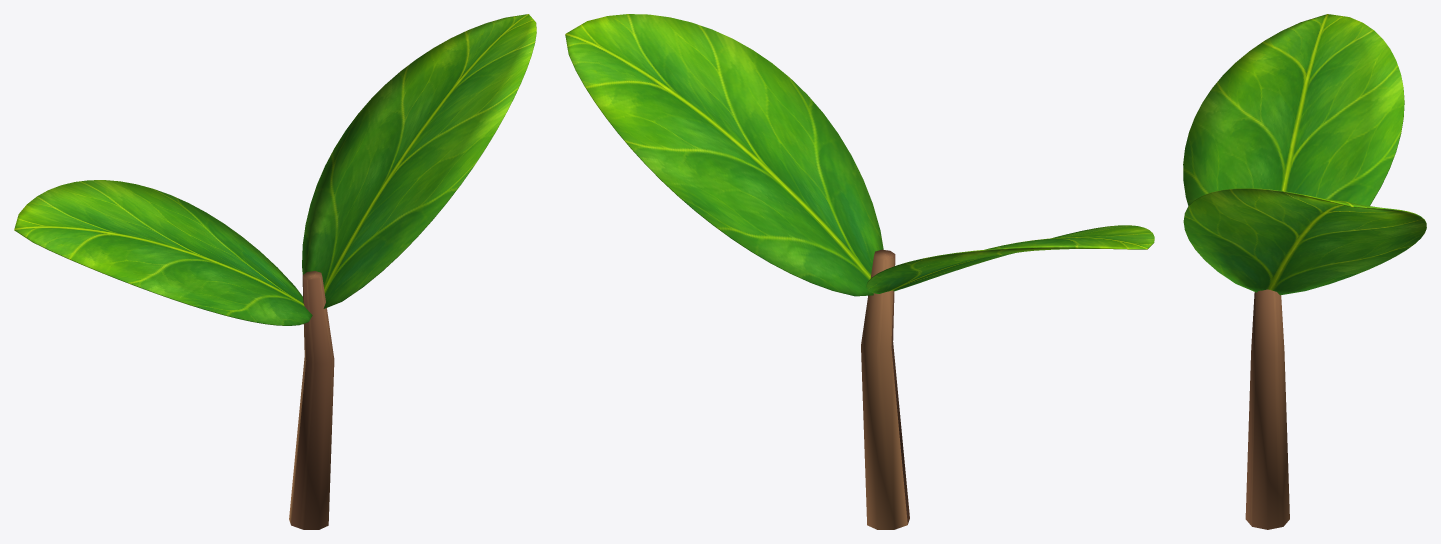
Rendered from NP_Blueberry_Sprout.fbx.
The picture shows the model from 3 angles, left to right: view 1: azimuth 30°, elevation 25°; view 2: azimuth 150°, elevation 25°; view 3: azimuth 270°, elevation 25°; orthographic projection. The views are drawn at different scales.
Parts seen in each view (by area): view 1: NP_Blueberry_Sprout; view 2: NP_Blueberry_Sprout; view 3: NP_Blueberry_Sprout.
Part boxes in pixels (x1,y1,x2,y2): NP_Blueberry_Sprout: (14,14,536,529); NP_Blueberry_Sprout: (565,14,1154,529); NP_Blueberry_Sprout: (1183,14,1426,529).
Size of the model in its own units: 29.58 by 22.61 by 10.98.
